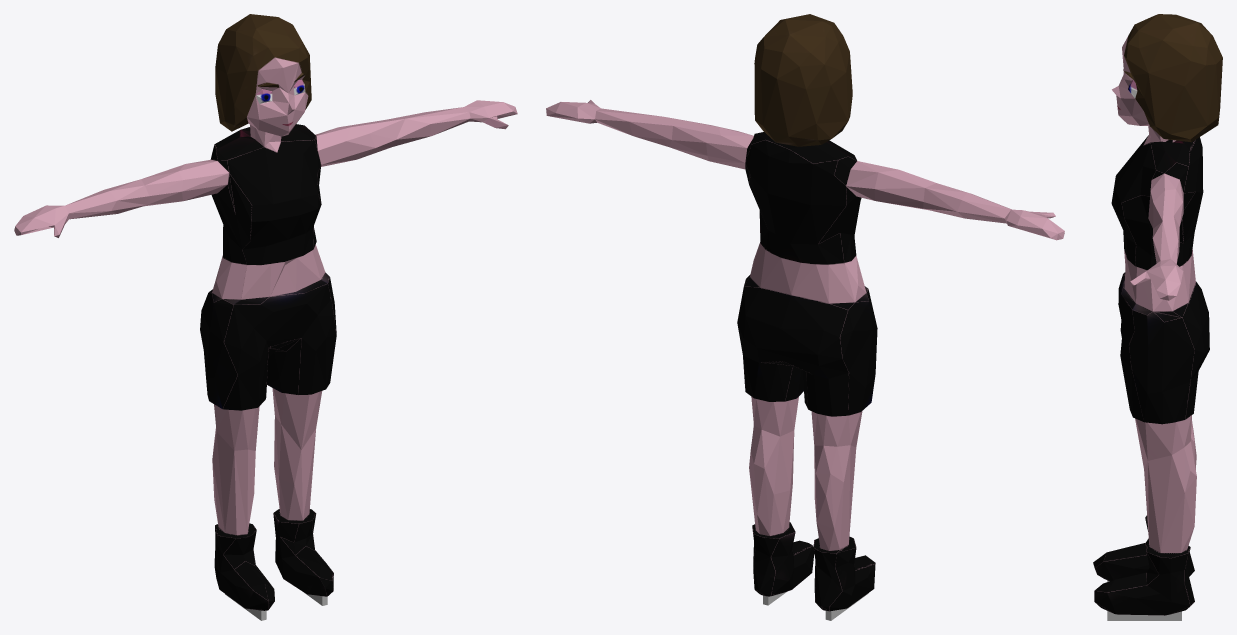
The model's file is nel7-2.fbx.
The picture shows the model from 3 angles, left to right: view 1: azimuth 30°, elevation 25°; view 2: azimuth 150°, elevation 25°; view 3: azimuth 270°, elevation 25°; orthographic projection. The views are drawn at different scales.
Visible parts, largest first — view 1: Nel; view 2: Nel; view 3: Nel, Schlittschuh.
Part boxes in pixels (box(x1,y1,x2,y2)): Nel: box(14, 14, 517, 610); Nel: box(546, 14, 1064, 611); Nel: box(1093, 14, 1222, 615); Schlittschuh: box(1107, 580, 1181, 620).
Size of the model in its own units: 13148 by 14285 by 2882.
2 materials, 1 textured.
